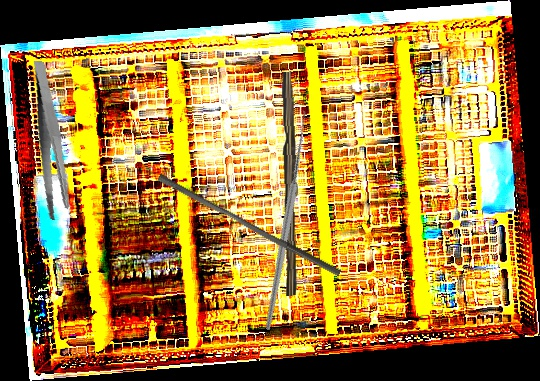Dressing Forceps: (11, 60, 90, 222)
Hook Surgical: (173, 104, 392, 331)
Pusher: (153, 172, 346, 278)
Scalpel Handle: (278, 71, 304, 296)
